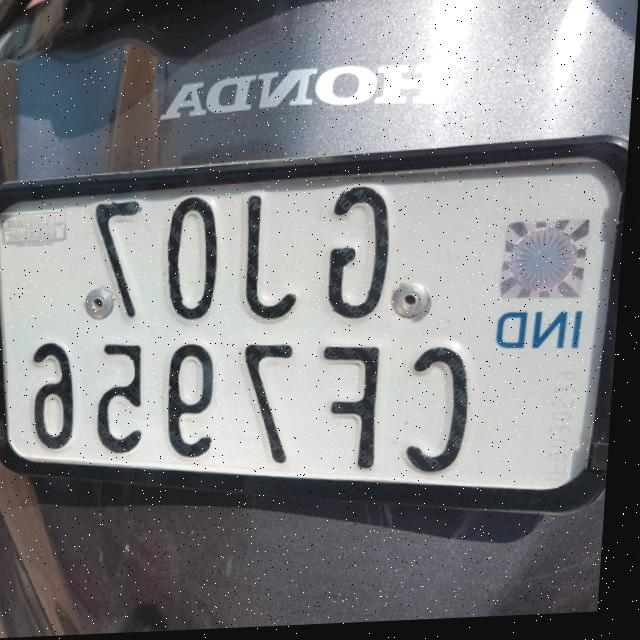plate: (0, 135, 632, 546)
